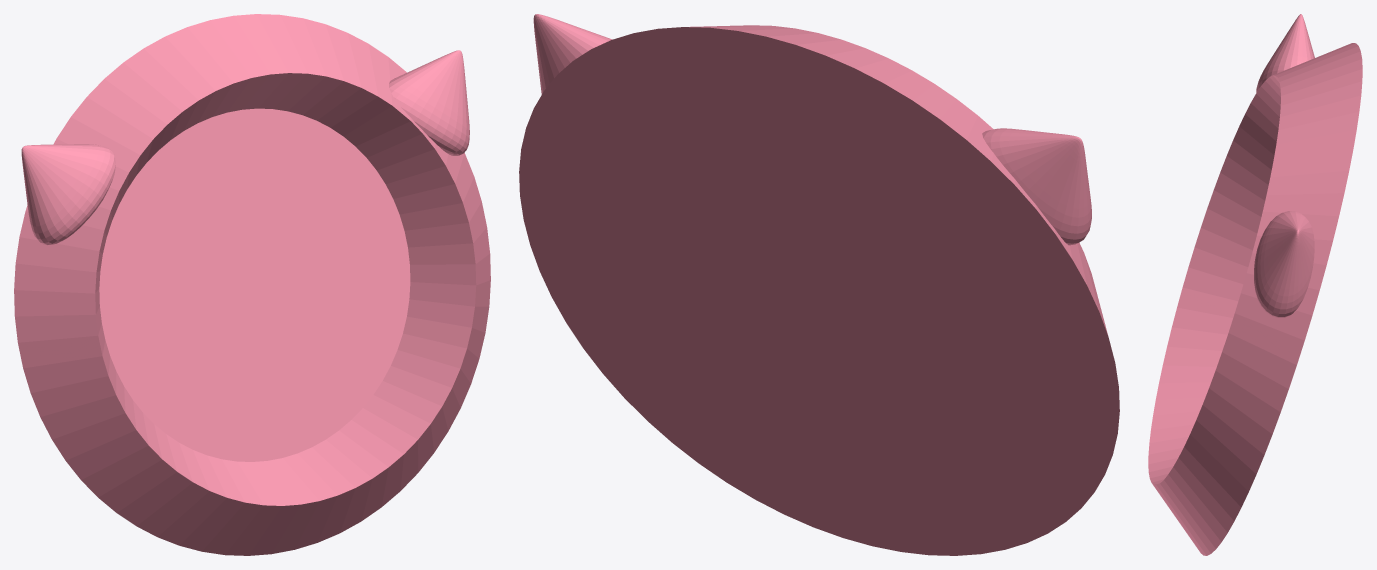
File: plato-gato.glb
3 renders of one model, left to right at view 1: azimuth 30°, elevation 25°; view 2: azimuth 150°, elevation 25°; view 3: azimuth 270°, elevation 25°, orthographic. The views are drawn at different scales.
Parts seen in each view (by area): view 1: Círculo, Orejas; view 2: Círculo, Orejas; view 3: Círculo, Orejas.
Part boxes in pixels (box(x1,y1,x2,y2)): Círculo: box(14, 14, 490, 555); Orejas: box(21, 50, 469, 244); Círculo: box(519, 25, 1119, 555); Orejas: box(533, 14, 1091, 245); Círculo: box(1148, 43, 1362, 555); Orejas: box(1254, 14, 1314, 317).
Size of the model in its own units: 10.11 by 9.61 by 4.05.
